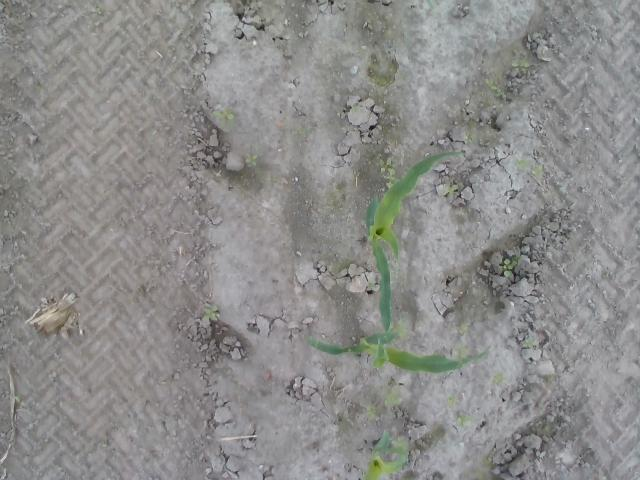Maize: (362, 150, 462, 331), (304, 332, 490, 374), (361, 428, 408, 479)
Weeds: (366, 388, 402, 416), (378, 157, 401, 188), (516, 158, 544, 177), (485, 78, 505, 98), (208, 108, 236, 120), (201, 304, 219, 322), (512, 59, 530, 74), (502, 256, 514, 277), (457, 414, 471, 430), (243, 153, 257, 168), (492, 372, 503, 384), (521, 338, 533, 348), (447, 184, 460, 193)
